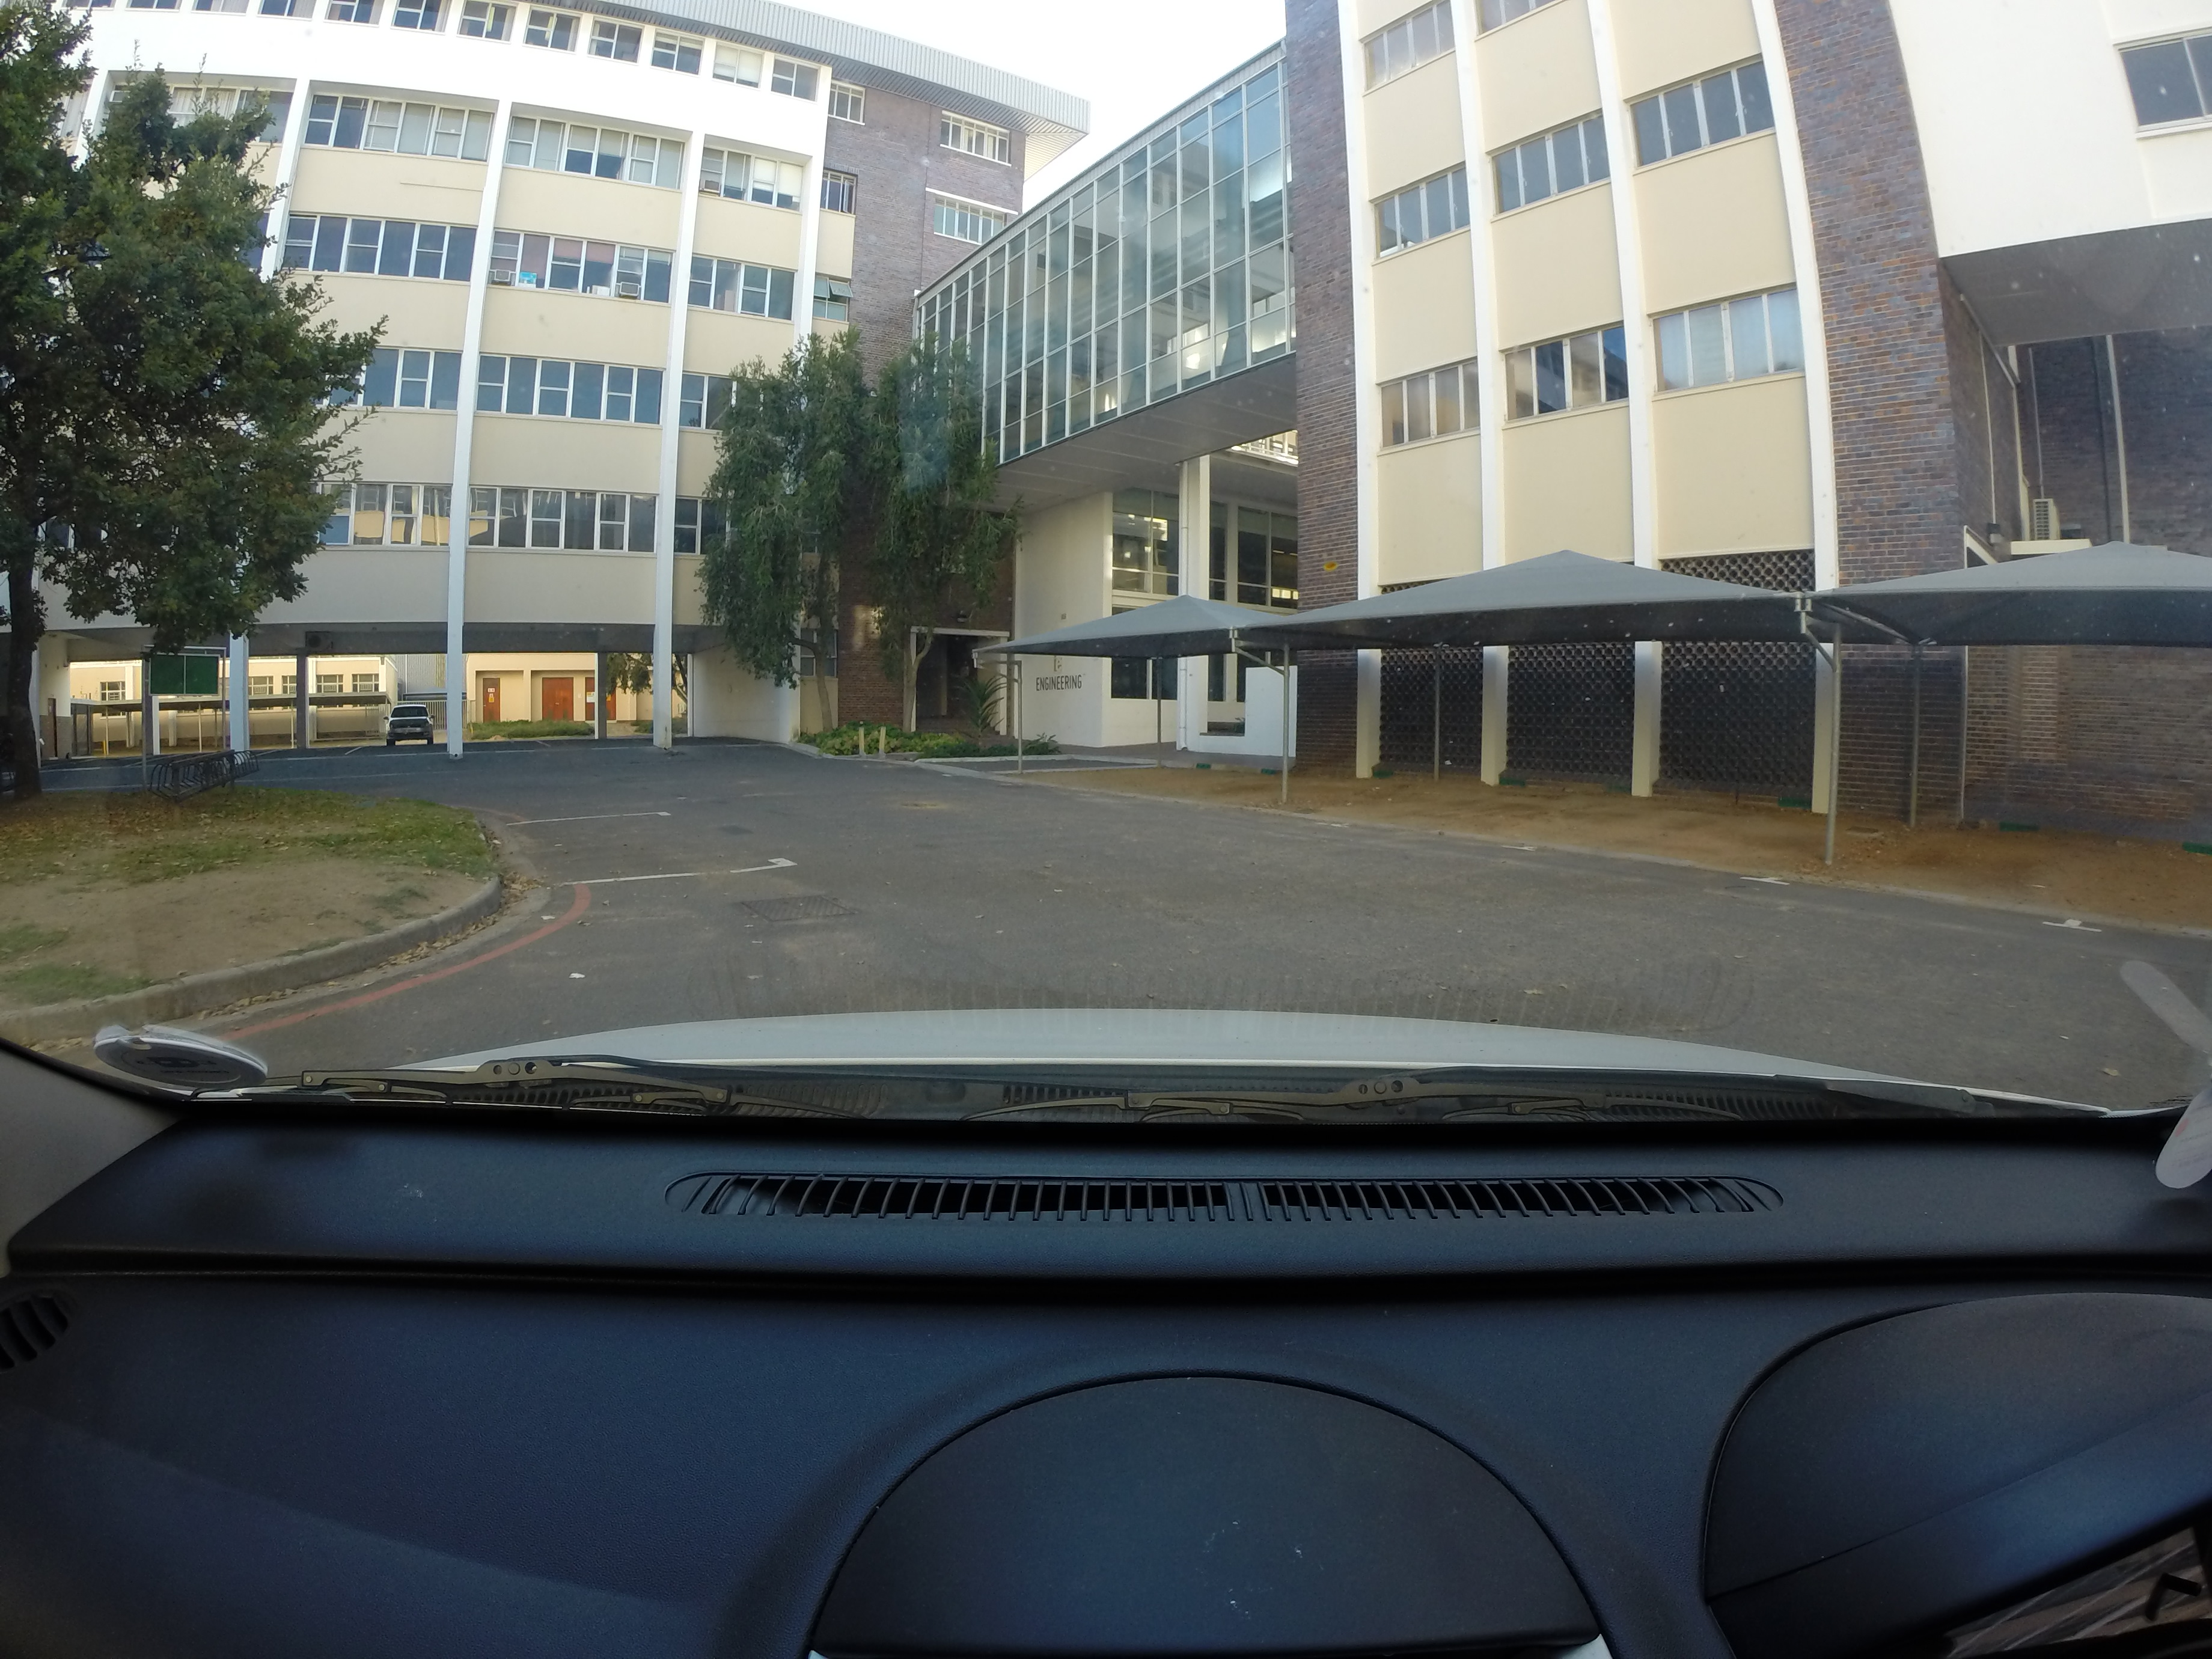pothole: (887, 798, 963, 814)
